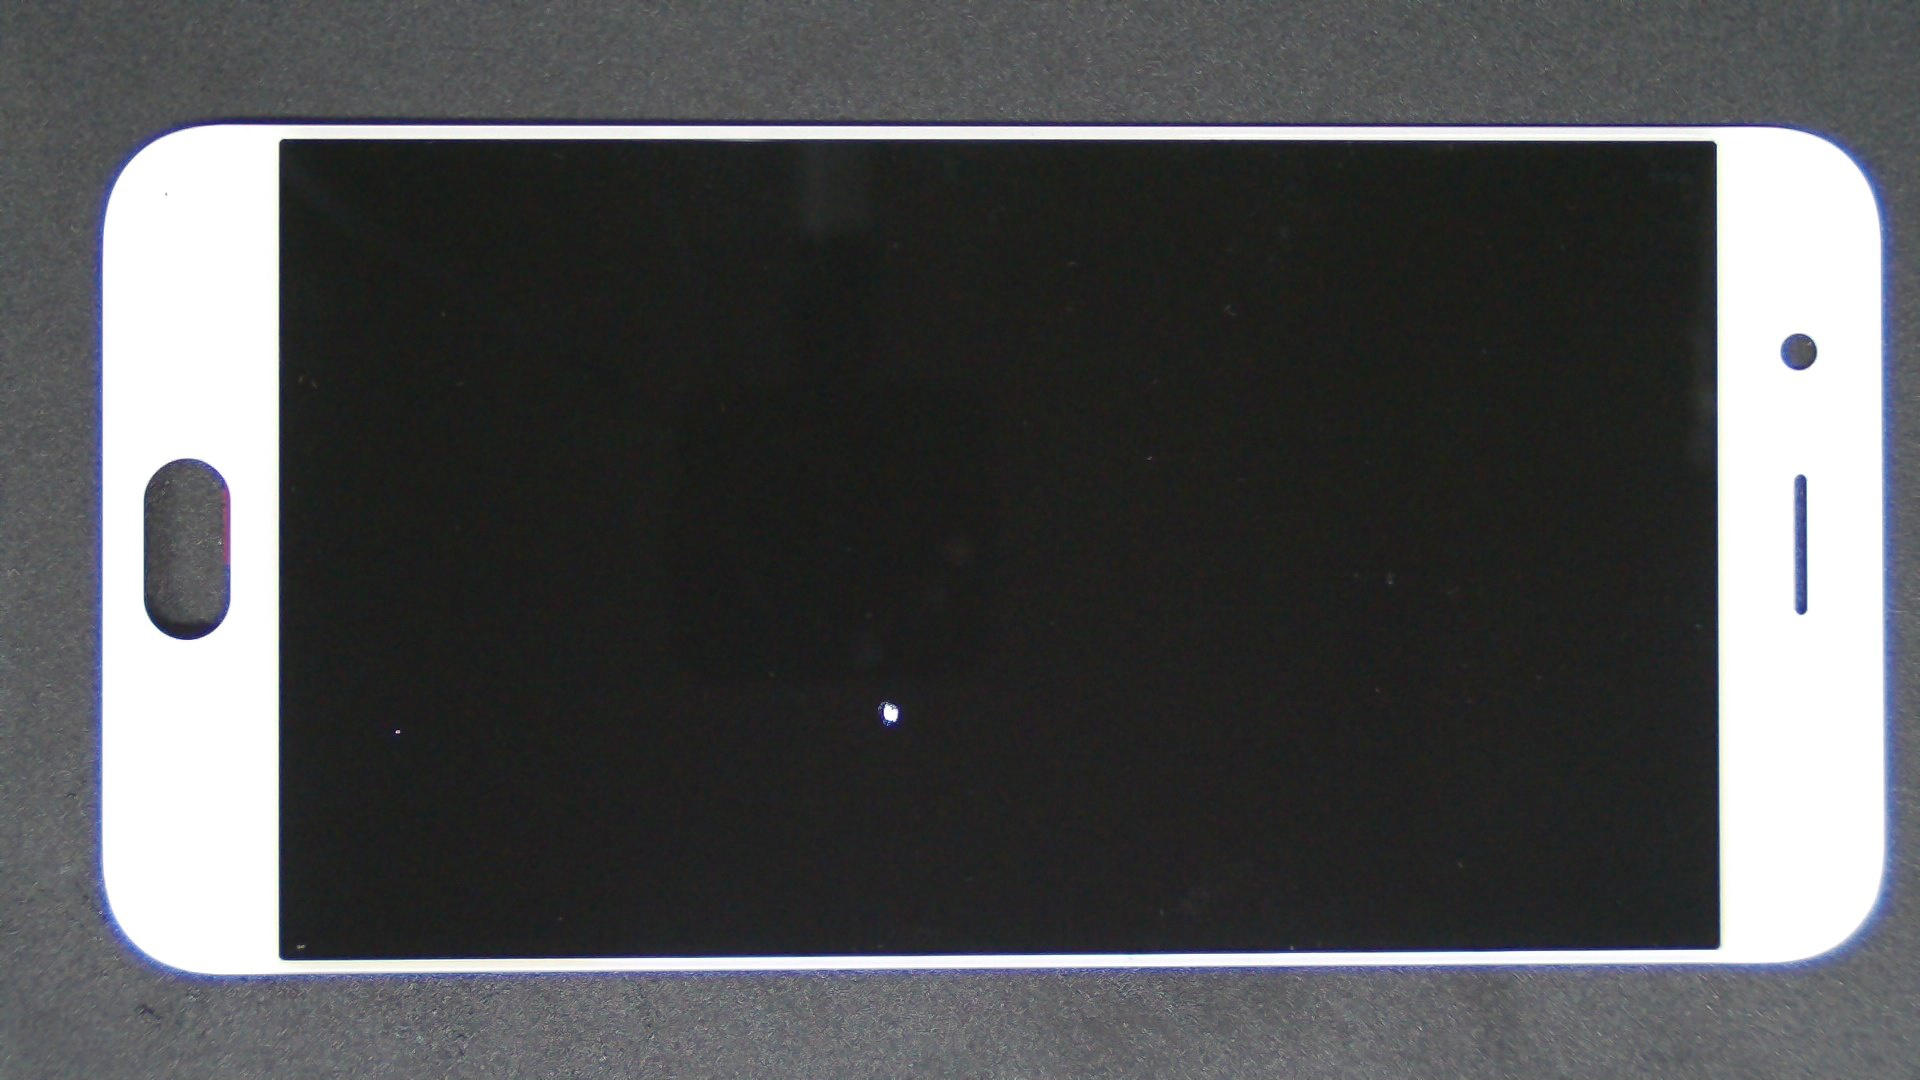oil: (443, 348, 1320, 1052)
